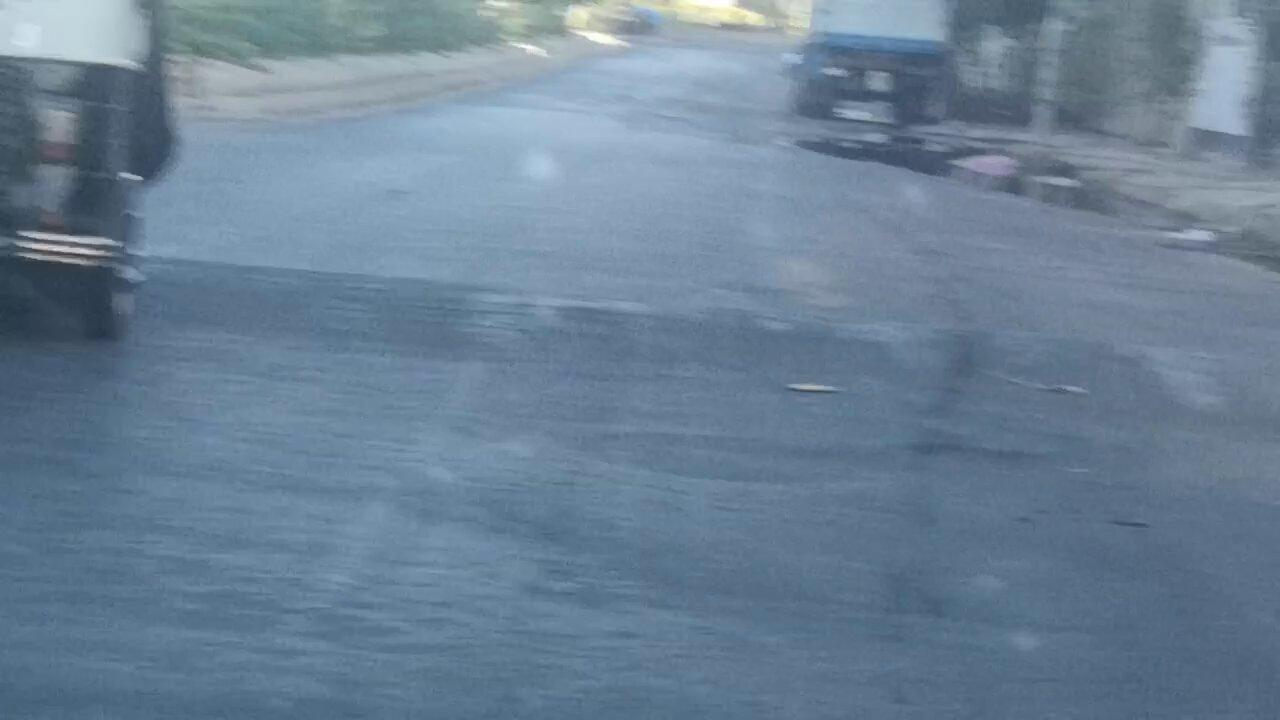Bump: (135, 258, 1280, 428)
